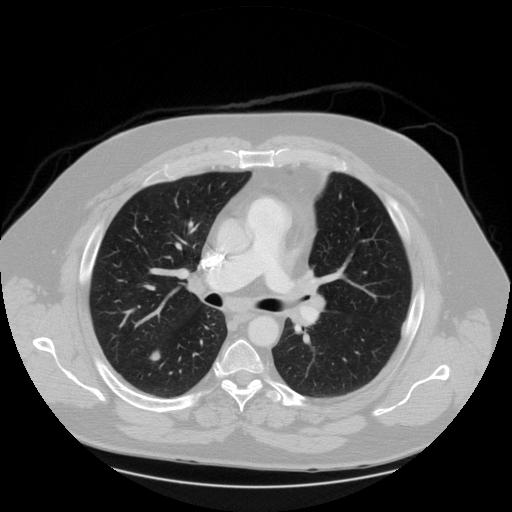nodule: (148, 349, 163, 364)
